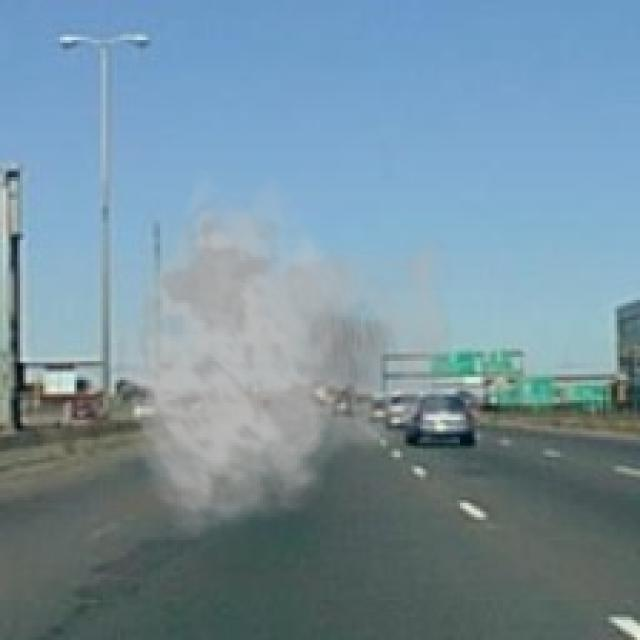smoke: (114, 169, 486, 540)
